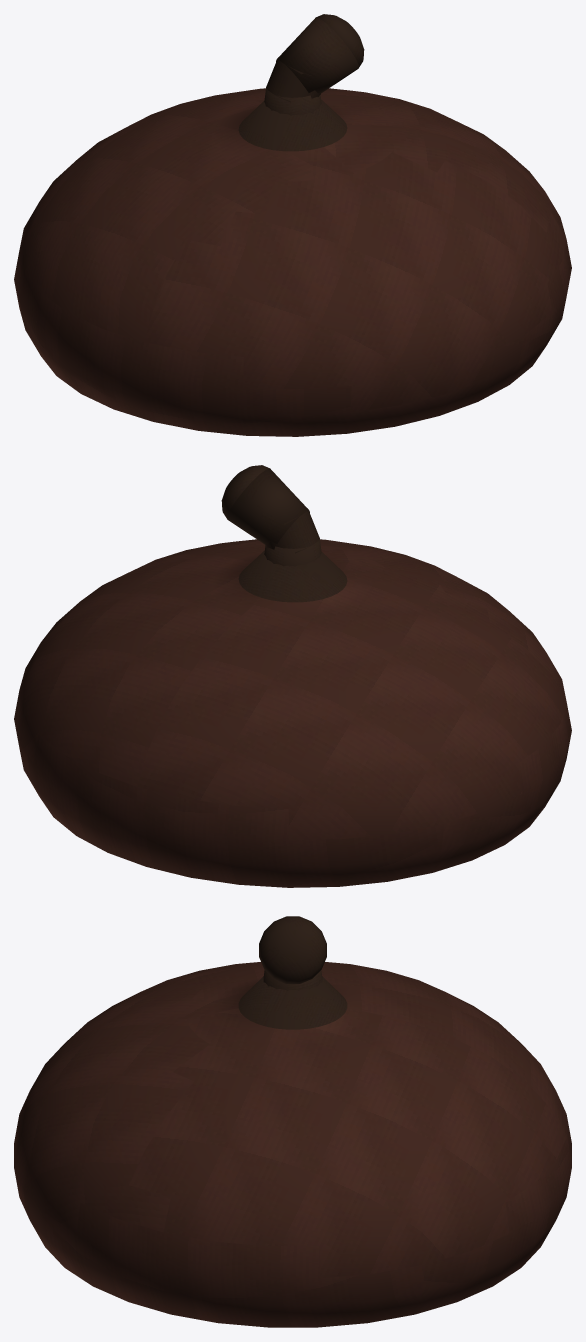
File: item-acornhat.glb
The picture shows the model from 3 angles, top to bottom: view 1: azimuth 30°, elevation 25°; view 2: azimuth 150°, elevation 25°; view 3: azimuth 270°, elevation 25°; orthographic projection. The views are drawn at different scales.
Size of the model in its own units: 481 by 294 by 462.
2 materials, 2 textured.
